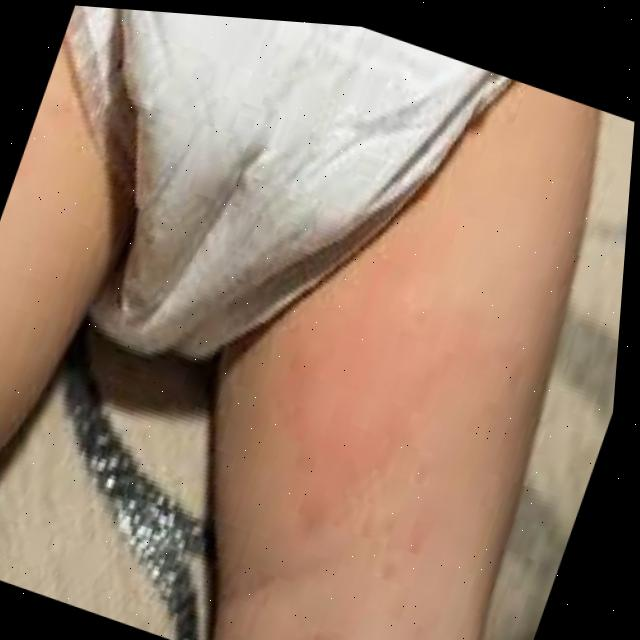Eczema: (237, 172, 518, 560)
